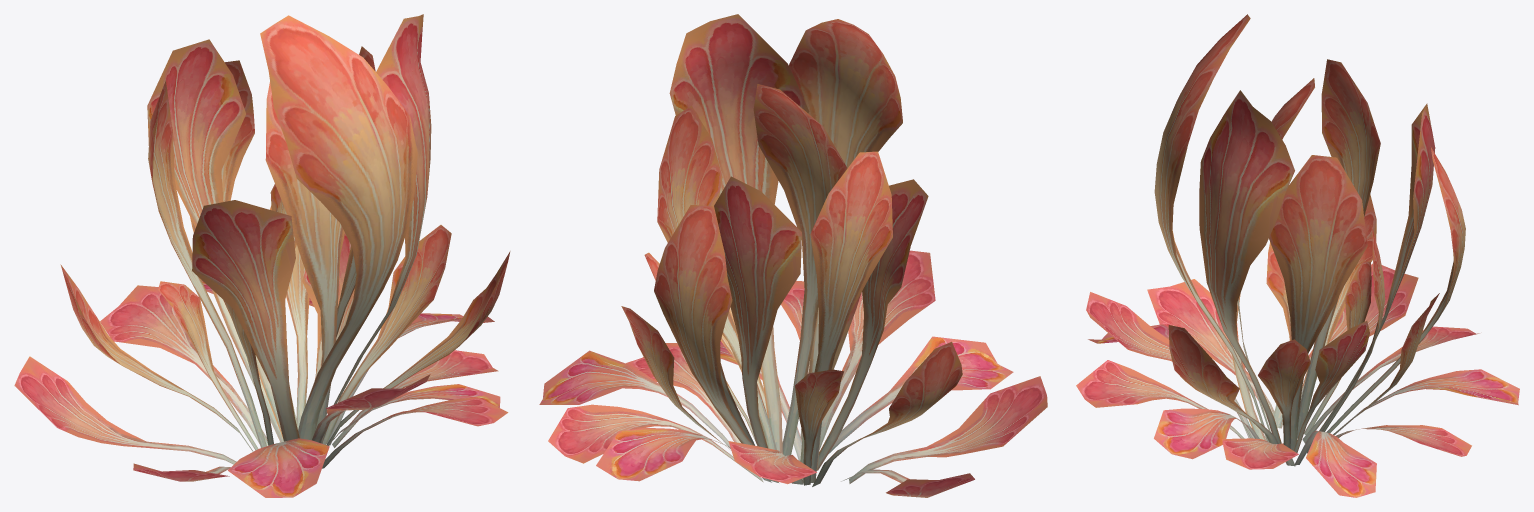
File: Homeworld_Exterior_Xm_Plant_Grass_Desert_05_Lod0.fbx
3 renders of one model, left to right at view 1: azimuth 30°, elevation 25°; view 2: azimuth 150°, elevation 25°; view 3: azimuth 270°, elevation 25°, orthographic. The views are drawn at different scales.
Parts seen in each view (by area): view 1: Area_Xm_Grass_CWSM_Jyc_01_Lod0; view 2: Area_Xm_Grass_CWSM_Jyc_01_Lod0; view 3: Area_Xm_Grass_CWSM_Jyc_01_Lod0.
Boxes of the visible parts, x1,y1,x2,y2 form: Area_Xm_Grass_CWSM_Jyc_01_Lod0: [14, 14, 510, 497]; Area_Xm_Grass_CWSM_Jyc_01_Lod0: [539, 14, 1047, 497]; Area_Xm_Grass_CWSM_Jyc_01_Lod0: [1076, 14, 1519, 497].
Bounding box in the file's own units: 3.48 × 3.36 × 3.22.
1 material, 1 textured.
